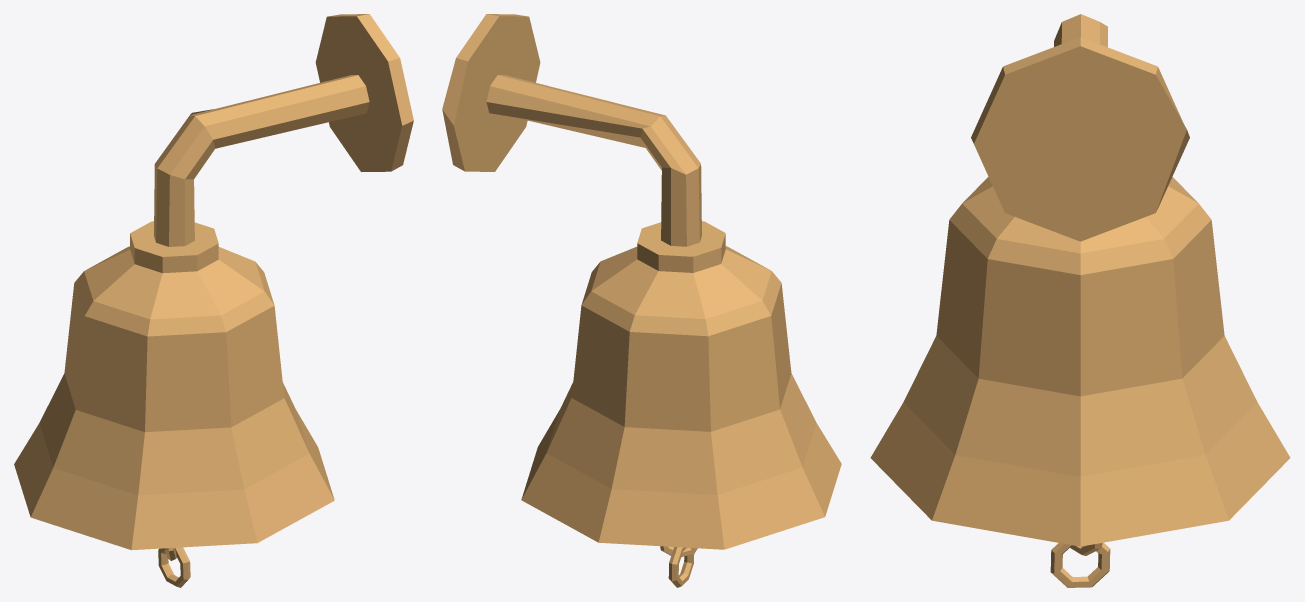
File: bell.fbx
The picture shows the model from 3 angles, left to right: view 1: azimuth 30°, elevation 25°; view 2: azimuth 150°, elevation 25°; view 3: azimuth 270°, elevation 25°; orthographic projection. The views are drawn at different scales.
Visible parts, largest first — view 1: Cylinder; view 2: Cylinder; view 3: Cylinder.
Boxes of the visible parts, <box> form: Cylinder: <box>14,14,413,587</box>; Cylinder: <box>442,14,841,587</box>; Cylinder: <box>870,14,1290,587</box>.
Size of the model in its own units: 312 by 455 by 261.
